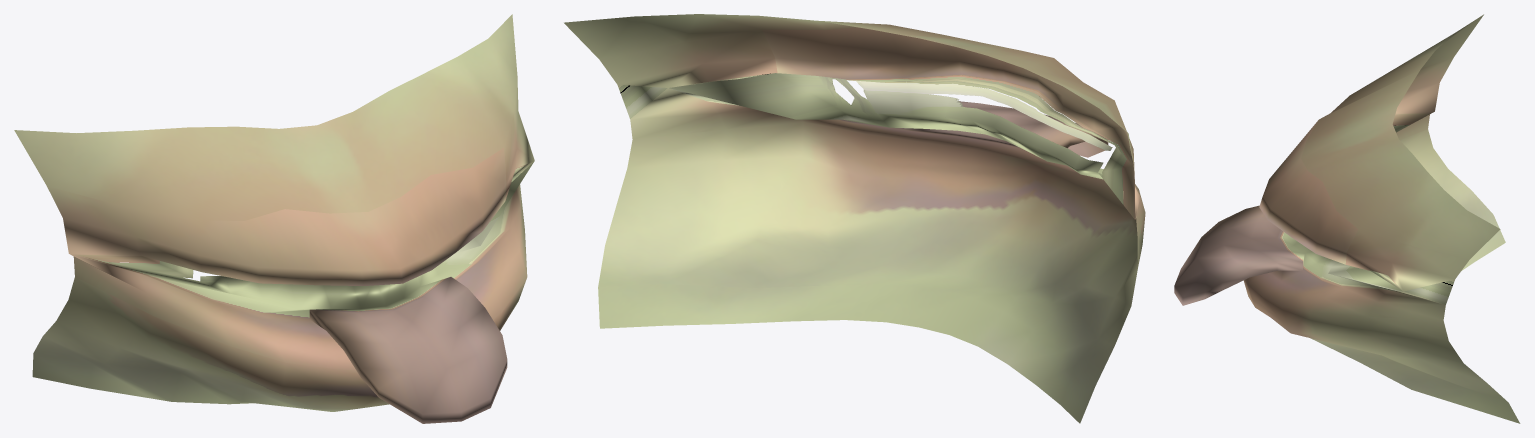
Rendered from DF_TongueMouth.fbx.
The picture shows the model from 3 angles, left to right: view 1: azimuth 30°, elevation 25°; view 2: azimuth 150°, elevation 25°; view 3: azimuth 270°, elevation 25°; orthographic projection. The views are drawn at different scales.
Parts seen in each view (by area): view 1: Tongue Mouth; view 2: Tongue Mouth; view 3: Tongue Mouth.
Part boxes in pixels (x1,y1,x2,y2): Tongue Mouth: [14, 14, 534, 423]; Tongue Mouth: [564, 14, 1145, 423]; Tongue Mouth: [1174, 14, 1520, 423].
Bounding box in the file's own units: 0.3425 × 0.1828 × 0.2469.
